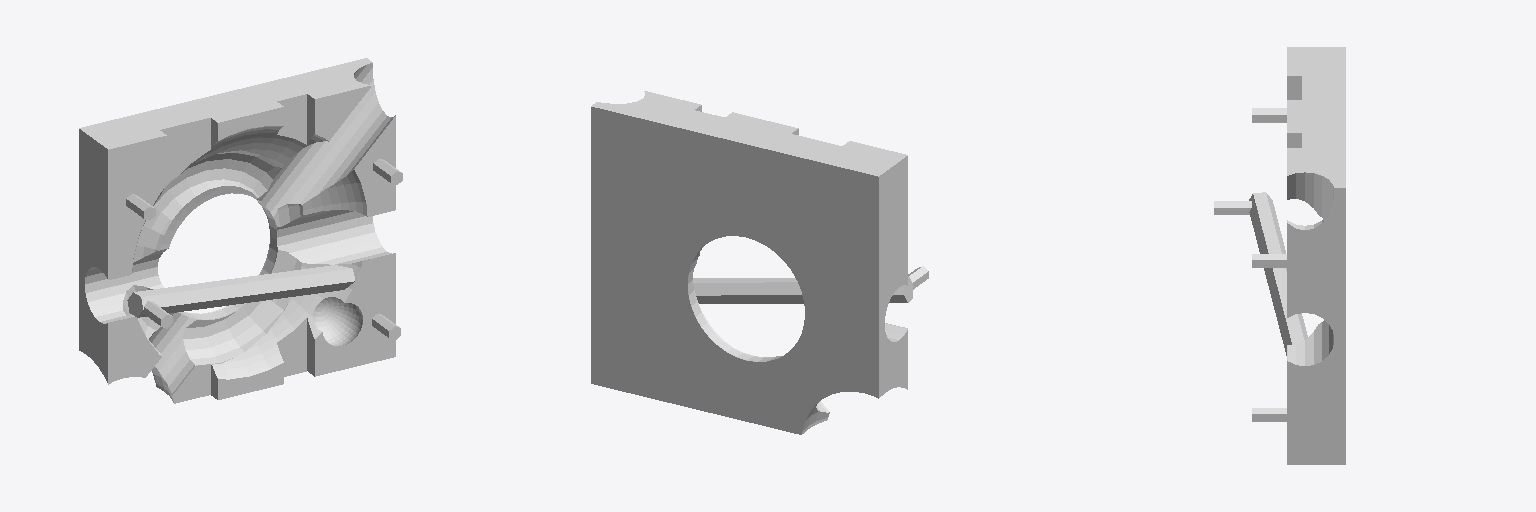
Rendered from gi_station.obj.
The picture shows the model from 3 angles: view 1: azimuth 30°, elevation 25°; view 2: azimuth 150°, elevation 25°; view 3: azimuth 270°, elevation 25°; orthographic projection.
Visible parts, largest first — view 1: obj_0; view 2: obj_0; view 3: obj_0.
Boxes of the visible parts, x1=… form: obj_0: x1=79, y1=58, x2=402, y2=403; obj_0: x1=591, y1=91, x2=928, y2=434; obj_0: x1=1214, y1=47, x2=1345, y2=464.
Size of the model in its own units: 113 by 104 by 45.